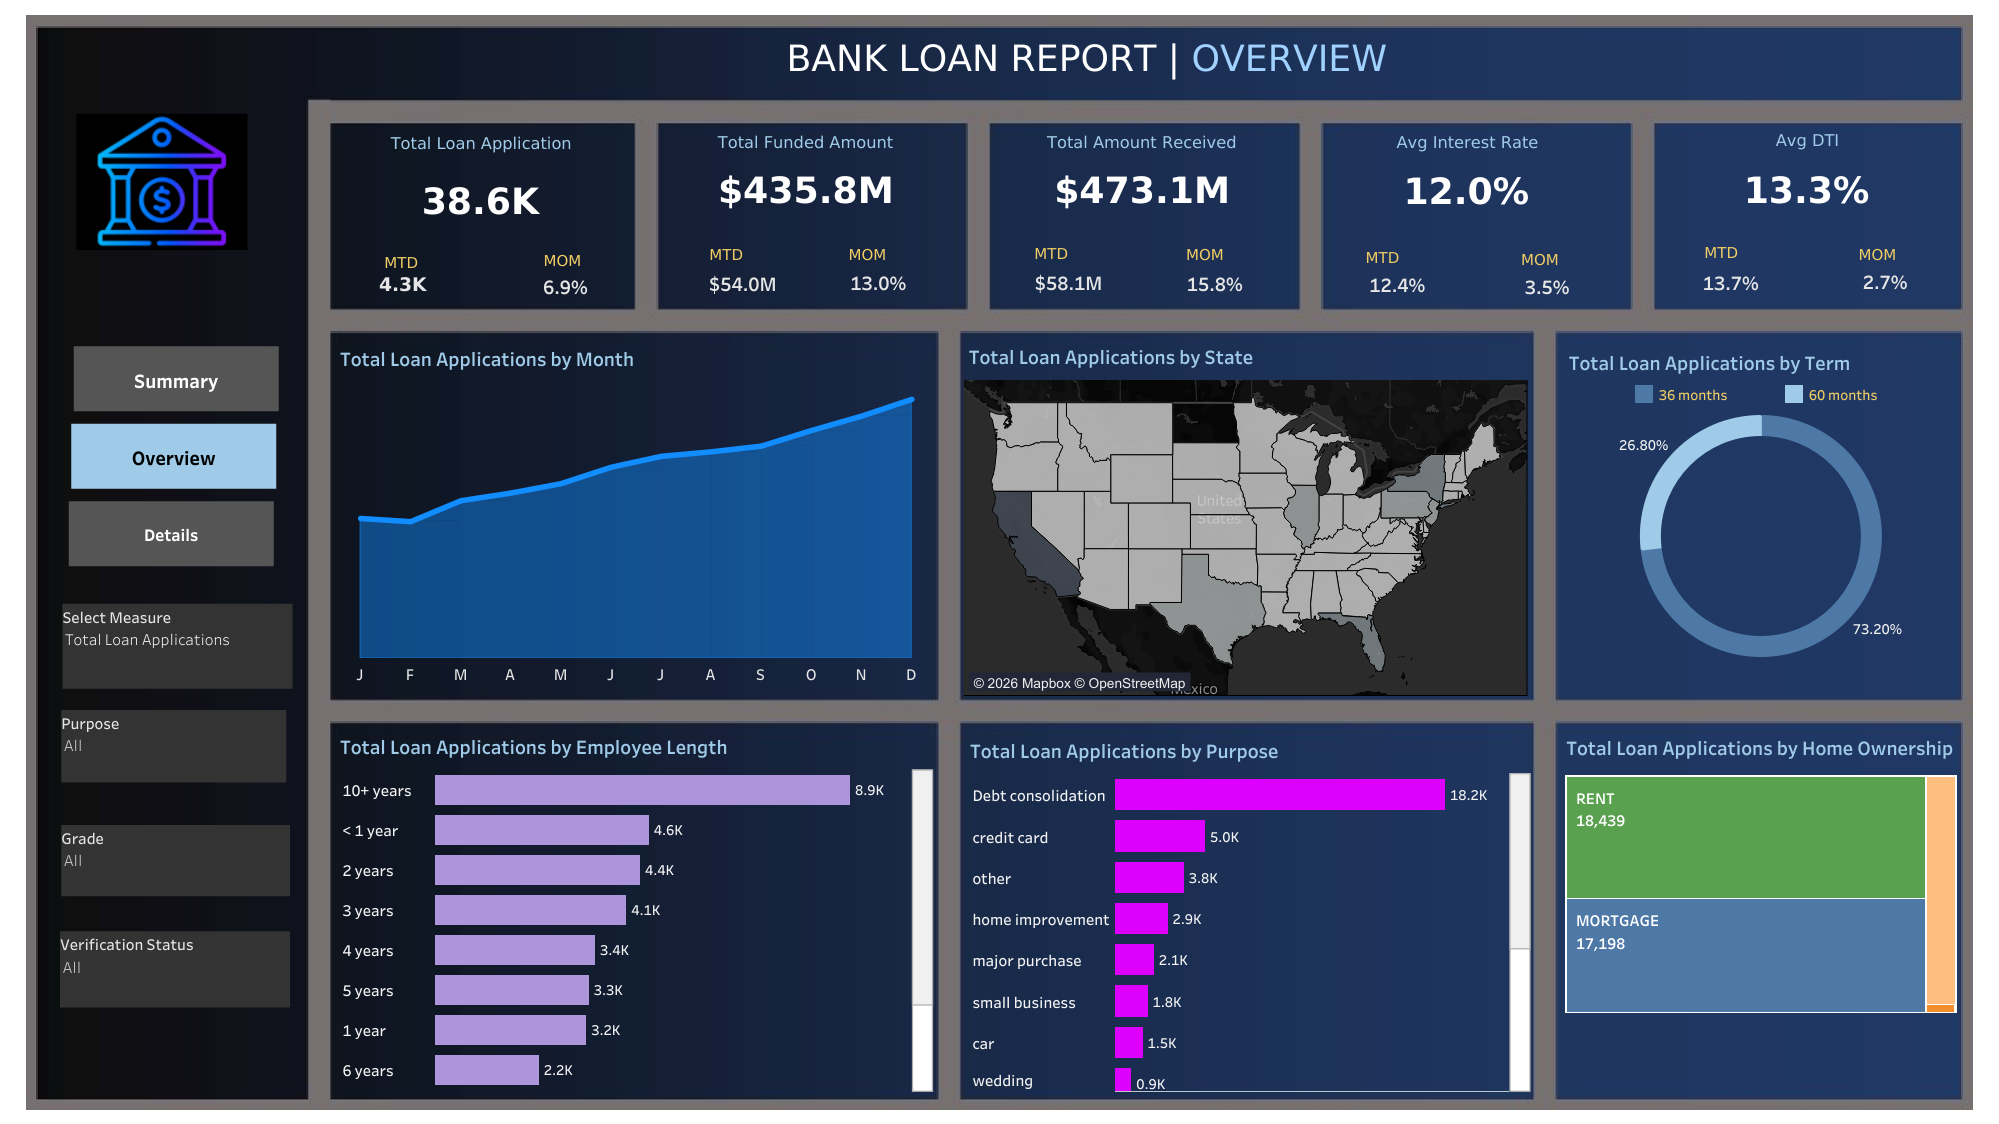

The page's visual inventory and layout, read from the dashboard file:
{"tool":"tableau","page":{"name":"OVERVIEW","canvas":[1600,900],"ordinal":1},"visuals":[{"type":"image","param":"Image/Tableau Background 2.jpg","box":[8,8,1584,884]},{"type":"text","box":[473,12,793,69]},{"type":"image","param":"Image/WhatsApp Image 2026-08-31 at 14.33.42.jpeg","box":[60,90,137,120]},{"type":"worksheet","title":"Avg DTI","mark":"Automatic","box":[1376,98,140,77]},{"type":"worksheet","title":"Total Funded Amount","mark":"Automatic","box":[554,99,181,75]},{"type":"worksheet","title":"Total Amount Received","mark":"Automatic","box":[750,99,327,74]},{"type":"worksheet","title":"Avg Interest Rate","mark":"Automatic","box":[1101,99,146,76]},{"type":"worksheet","title":"Total Loan Application","mark":"Automatic","box":[266,100,238,90]},{"type":"text","box":[1327,186,100,30]},{"type":"text","box":[791,187,100,30]},{"type":"text","box":[531,188,100,30]},{"type":"text","box":[644,188,100,30]},{"type":"text","box":[914,188,100,30]},{"type":"text","box":[1452,188,100,30]},{"type":"text","box":[1056,190,100,30]},{"type":"text","box":[1182,192,100,30]},{"type":"text","box":[400,193,100,30]},{"type":"text","box":[271,194,100,30]},{"type":"worksheet","title":"MOM Avg DTI","mark":"Automatic","box":[1463,195,90,60]},{"type":"worksheet","title":"MTD Avg DTI","mark":"Automatic","box":[1351,196,68,59]},{"type":"worksheet","title":"MTD Total Loan Applications","mark":"Automatic","box":[283,201,80,54]},{"type":"worksheet","title":"MTD Avg INT Rate ","mark":"Automatic","box":[1078,202,80,49]},{"type":"worksheet","title":"MOM Total Funded Amount","mark":"Automatic","box":[663,204,80,44]},{"type":"worksheet","title":"MOM Loan Application","mark":"Automatic","box":[422,205,60,48]},{"type":"worksheet","title":"MOM Total Amount Received","mark":"Automatic","box":[926,206,92,40]},{"type":"worksheet","title":"MTD Total Amount Received","mark":"Automatic","box":[817,207,78,38]},{"type":"worksheet","title":"MOM Avg Int Rate","mark":"Automatic","box":[1201,207,74,43]},{"type":"worksheet","title":"MTD Total Funded Amount ","mark":"Automatic","box":[539,209,111,35]},{"type":"worksheet","title":"State","mark":"Multipolygon","box":[771,268,450,288]},{"type":"dashboard-object","box":[59,270,164,52]},{"type":"worksheet","title":"Month","mark":"Area","rows":["Calculation_1016263134490660","Calculation_1016263134490660"],"cols":["issue_date"],"box":[268,270,481,278]},{"type":"worksheet","title":"Term","mark":"Pie","rows":["Calculation_1016263590817830","Calculation_1016263590817830"],"box":[1251,273,315,276]},{"type":"legend","title":"Term","param":"[federated.01xzj6x0jyavo41ald2ko1xmwz8x].[none:term:nk]","box":[1305,305,262,25]},{"type":"dashboard-object","box":[57,330,164,52]},{"type":"dashboard-object","box":[55,390,164,52]},{"type":"parameter","param":"[Parameters].[Parameter 1016263133622307]","box":[50,500,190,60]},{"type":"worksheet","title":"Emp  Length","mark":"Automatic","rows":["emp_length"],"cols":["Calculation_1016263134490660"],"box":[268,580,479,293]},{"type":"worksheet","title":"Home Own","mark":"Automatic","box":[1249,581,320,297]},{"type":"worksheet","title":"Purpose","mark":"Automatic","rows":["purpose"],"cols":["Calculation_1016263134490660"],"box":[772,583,453,290]},{"type":"filter","title":"Avg DTI","param":"[federated.01xzj6x0jyavo41ald2ko1xmwz8x].[none:purpose:nk]","box":[49,600,190,60]},{"type":"filter","title":"Avg DTI","param":"[federated.01xzj6x0jyavo41ald2ko1xmwz8x].[none:grade:nk]","box":[49,700,190,60]},{"type":"filter","title":"Avg DTI","param":"[federated.01xzj6x0jyavo41ald2ko1xmwz8x].[none:verification_status:nk]","box":[48,800,190,60]}]}

Visuals, with their boxes in screenshot pixels (x1, y1, x2, y2), scaled from the page's 1600x900 canvas onto the 1999x1124 screenshot:
image: locate(10, 10, 1989, 1114)
text: locate(591, 15, 1582, 101)
image: locate(75, 112, 246, 262)
"Avg DTI" worksheet: locate(1719, 122, 1894, 219)
"Total Funded Amount" worksheet: locate(692, 124, 918, 217)
"Total Amount Received" worksheet: locate(937, 124, 1346, 216)
"Avg Interest Rate" worksheet: locate(1376, 124, 1558, 219)
"Total Loan Application" worksheet: locate(332, 125, 630, 237)
text: locate(1658, 232, 1783, 270)
text: locate(988, 234, 1113, 271)
text: locate(663, 235, 788, 272)
text: locate(805, 235, 930, 272)
text: locate(1142, 235, 1267, 272)
text: locate(1814, 235, 1939, 272)
text: locate(1319, 237, 1444, 275)
text: locate(1477, 240, 1602, 277)
text: locate(500, 241, 625, 279)
text: locate(339, 242, 464, 280)
"MOM Avg DTI" worksheet: locate(1828, 244, 1940, 318)
"MTD Avg DTI" worksheet: locate(1688, 245, 1773, 318)
"MTD Total Loan Applications" worksheet: locate(354, 251, 454, 318)
"MTD Avg INT Rate " worksheet: locate(1347, 252, 1447, 313)
"MOM Total Funded Amount" worksheet: locate(828, 255, 928, 310)
"MOM Loan Application" worksheet: locate(527, 256, 602, 316)
"MOM Total Amount Received" worksheet: locate(1157, 257, 1272, 307)
"MTD Total Amount Received" worksheet: locate(1021, 259, 1118, 306)
"MOM Avg Int Rate" worksheet: locate(1500, 259, 1593, 312)
"MTD Total Funded Amount " worksheet: locate(673, 261, 812, 305)
"State" worksheet (Multipolygon marks): locate(963, 335, 1525, 694)
dashboard-object: locate(74, 337, 279, 402)
"Month" worksheet (Area marks): locate(335, 337, 936, 684)
"Term" worksheet (Pie marks): locate(1563, 341, 1957, 686)
"Term" legend: locate(1630, 381, 1958, 412)
dashboard-object: locate(71, 412, 276, 477)
dashboard-object: locate(69, 487, 274, 552)
parameter: locate(62, 624, 300, 699)
"Emp  Length" worksheet: locate(335, 724, 933, 1090)
"Home Own" worksheet: locate(1560, 726, 1960, 1097)
"Purpose" worksheet: locate(965, 728, 1530, 1090)
"Avg DTI" filter: locate(61, 749, 299, 824)
"Avg DTI" filter: locate(61, 874, 299, 949)
"Avg DTI" filter: locate(60, 999, 297, 1074)
